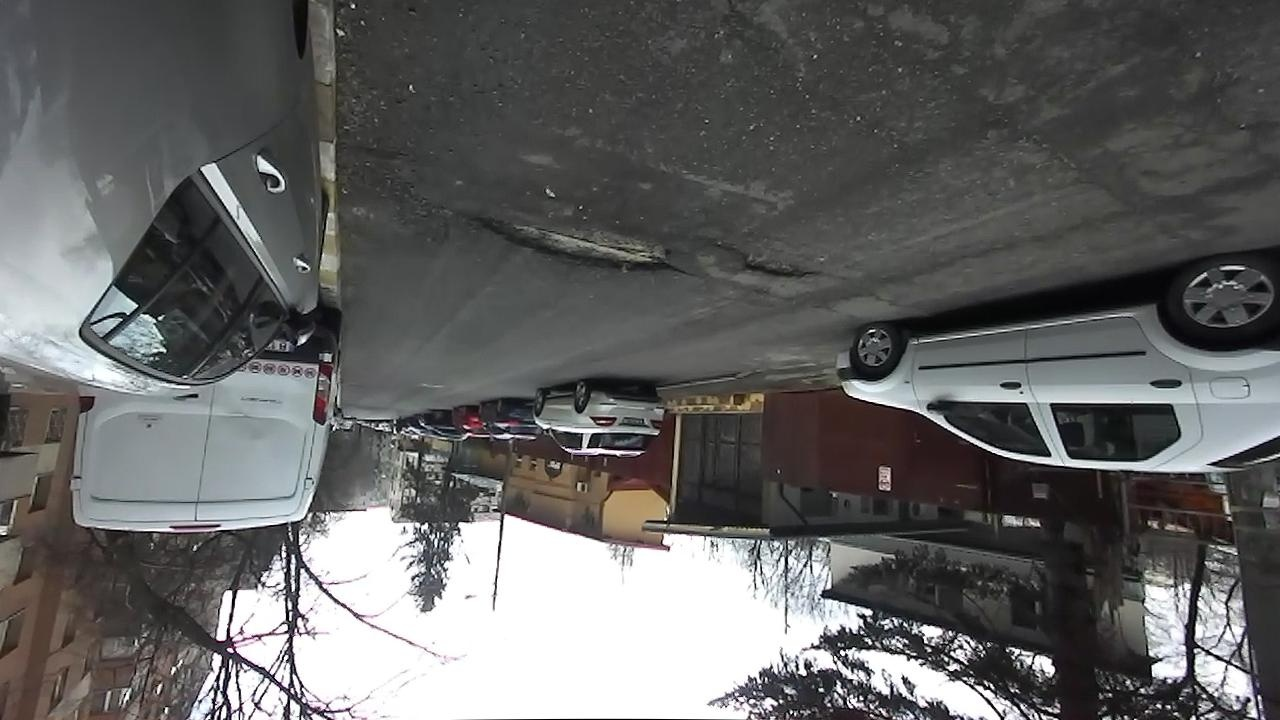pothole: (457, 210, 697, 281), (714, 240, 826, 282)
